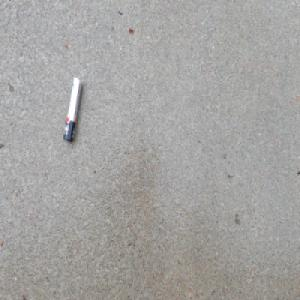Battery: (61, 76, 82, 144)
